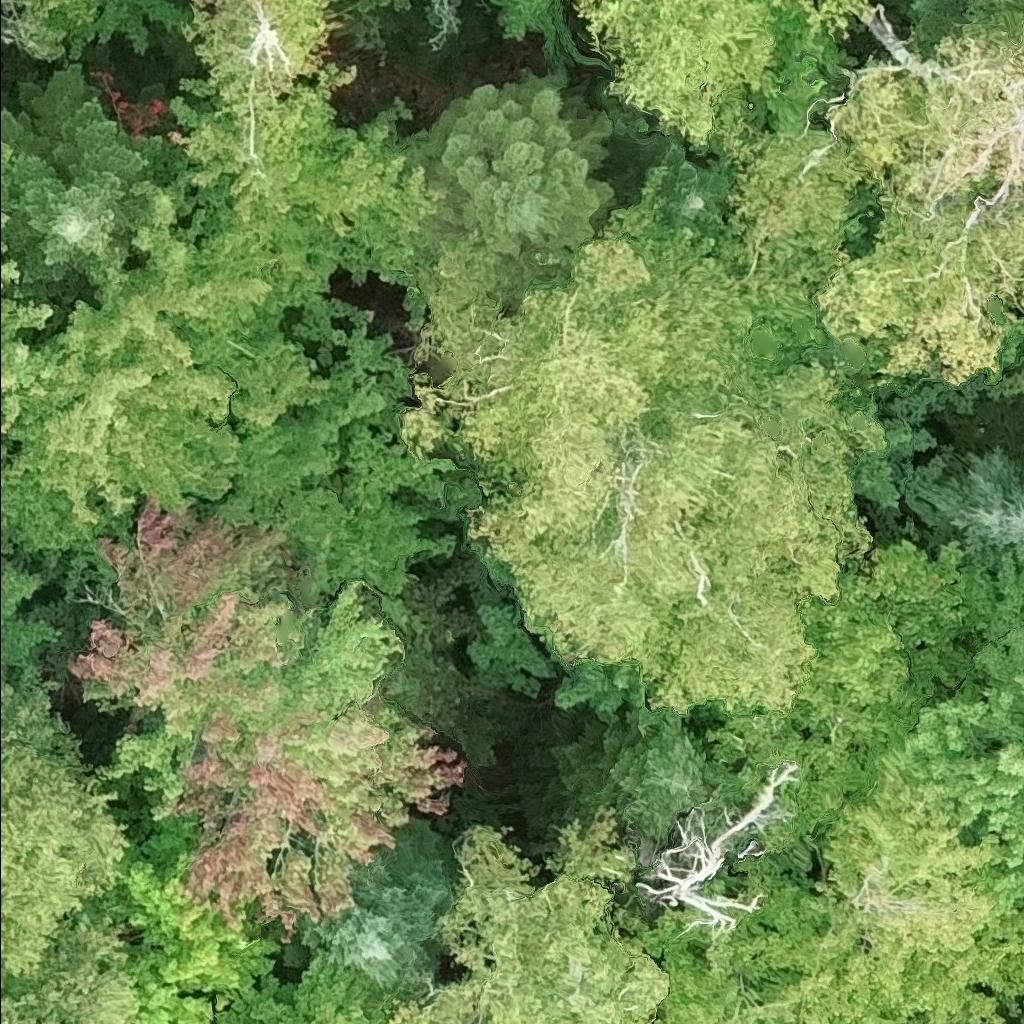crown: (402, 199, 879, 714), (0, 187, 458, 637), (60, 499, 466, 936), (736, 20, 1023, 389), (698, 539, 1023, 854), (615, 833, 1023, 1023), (386, 810, 672, 1023), (810, 722, 1023, 999), (405, 67, 626, 308), (192, 105, 431, 305), (0, 69, 201, 302), (0, 670, 136, 989), (98, 818, 284, 1023), (910, 626, 1023, 910), (296, 814, 461, 1004), (630, 758, 798, 937), (572, 0, 775, 147), (566, 709, 752, 849), (173, 75, 331, 213), (0, 891, 137, 1023), (0, 148, 51, 482), (188, 0, 328, 106), (903, 440, 1023, 561), (0, 0, 193, 66), (217, 957, 394, 1023), (0, 567, 63, 709), (658, 140, 726, 229), (802, 0, 885, 40), (425, 0, 450, 31), (777, 0, 793, 7), (387, 0, 400, 8), (1000, 1020, 1023, 1023), (1020, 937, 1023, 946)
